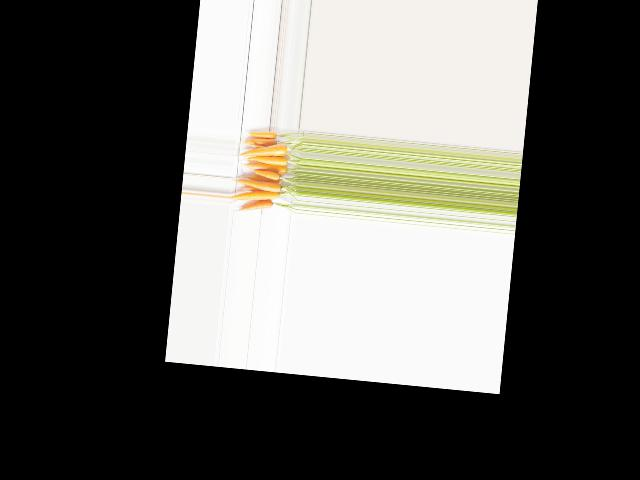carrot: (244, 126, 279, 142)
